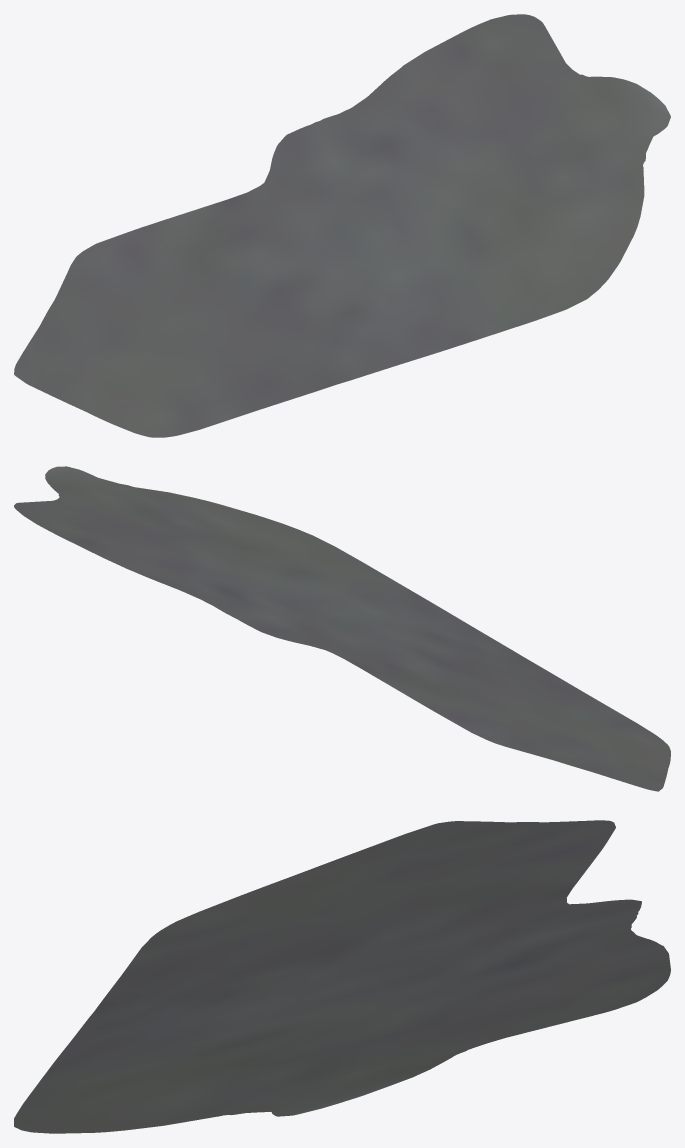
Rendered from Stump_LeftForeArm.gltf.
3 renders of one model, top to bottom at view 1: azimuth 30°, elevation 25°; view 2: azimuth 150°, elevation 25°; view 3: azimuth 270°, elevation 25°, orthographic. The views are drawn at different scales.
Visible parts, largest first — view 1: Stump_LeftForeArm; view 2: Stump_LeftForeArm; view 3: Stump_LeftForeArm.
Boxes of the visible parts, x1=… form: Stump_LeftForeArm: x1=14, y1=14, x2=670, y2=437; Stump_LeftForeArm: x1=14, y1=466, x2=670, y2=791; Stump_LeftForeArm: x1=14, y1=820, x2=670, y2=1133.
Size of the model in its own units: 0.2757 by 0.0867 by 0.1422.
1 material, 1 textured.
